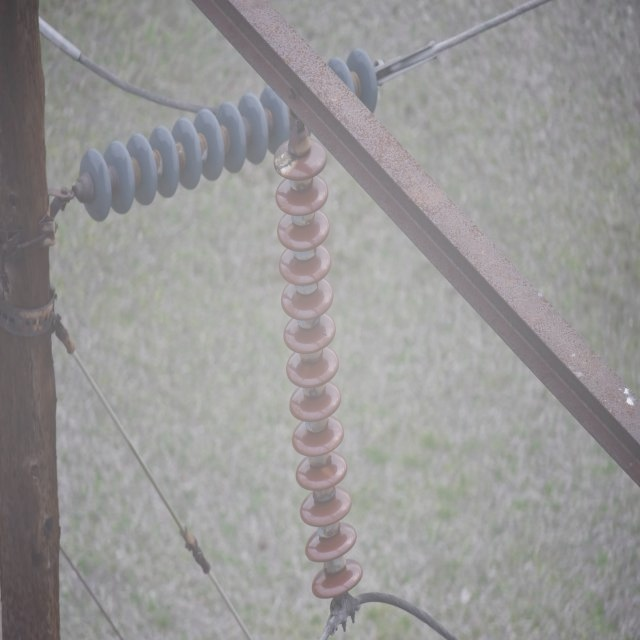insulator: (79, 46, 377, 222), (272, 137, 363, 596)
